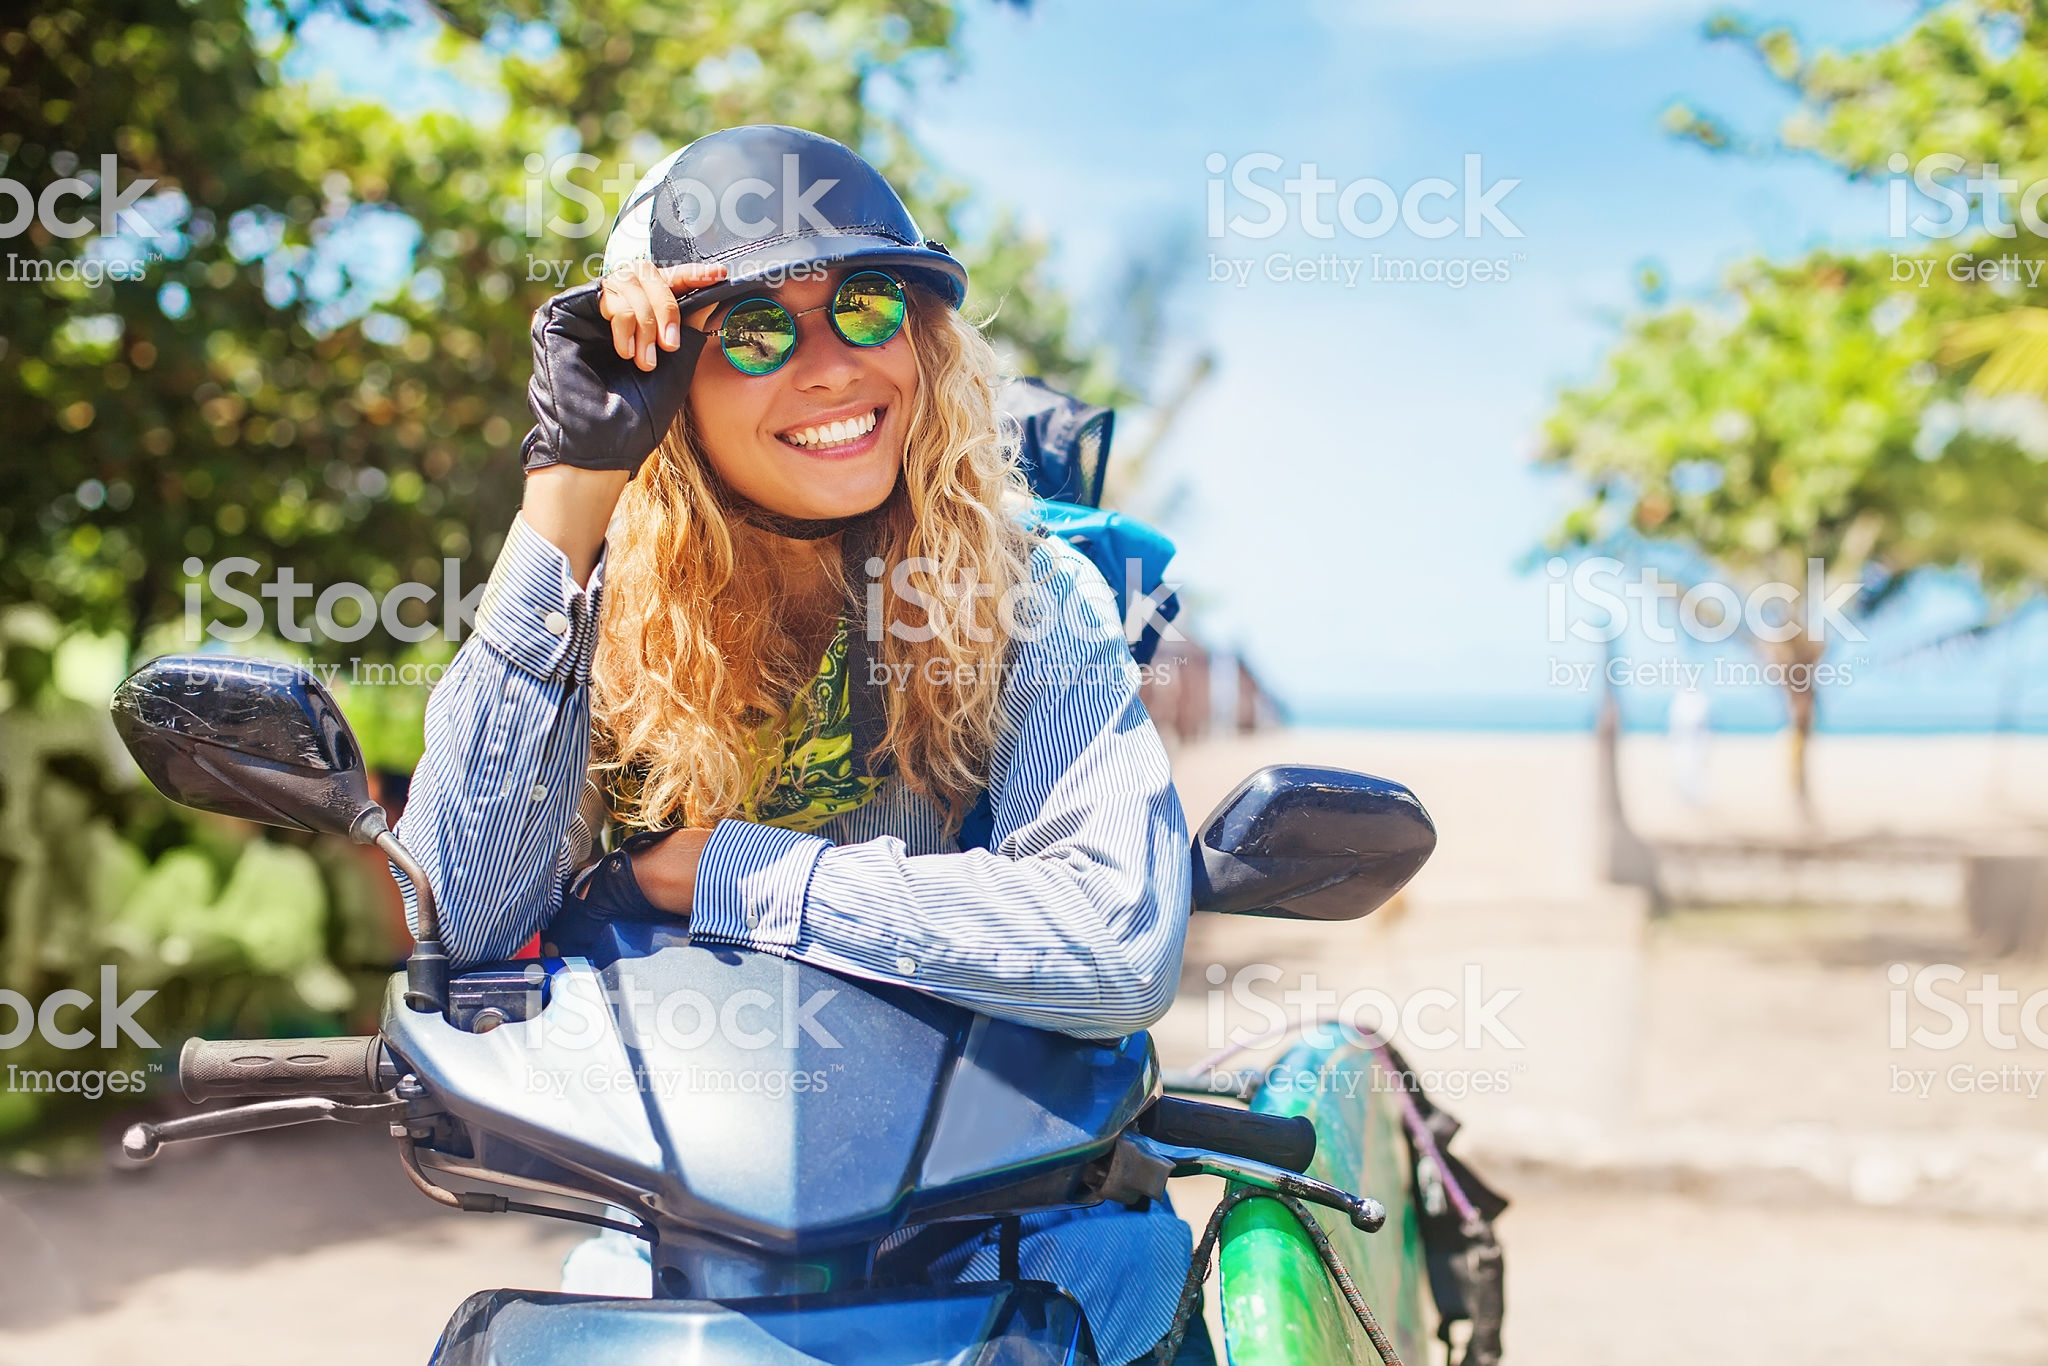helmet: (584, 142, 978, 358)
